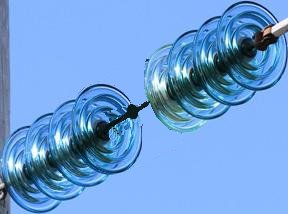gap: (69, 41, 211, 174)
